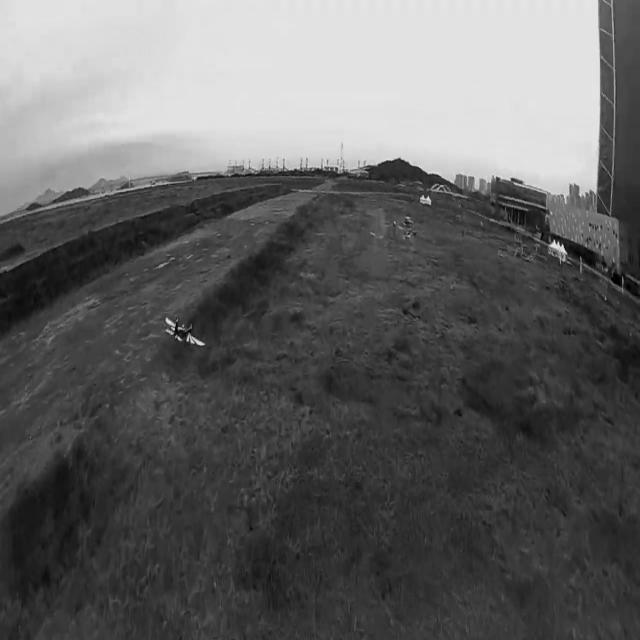iha: (161, 305, 208, 342)
